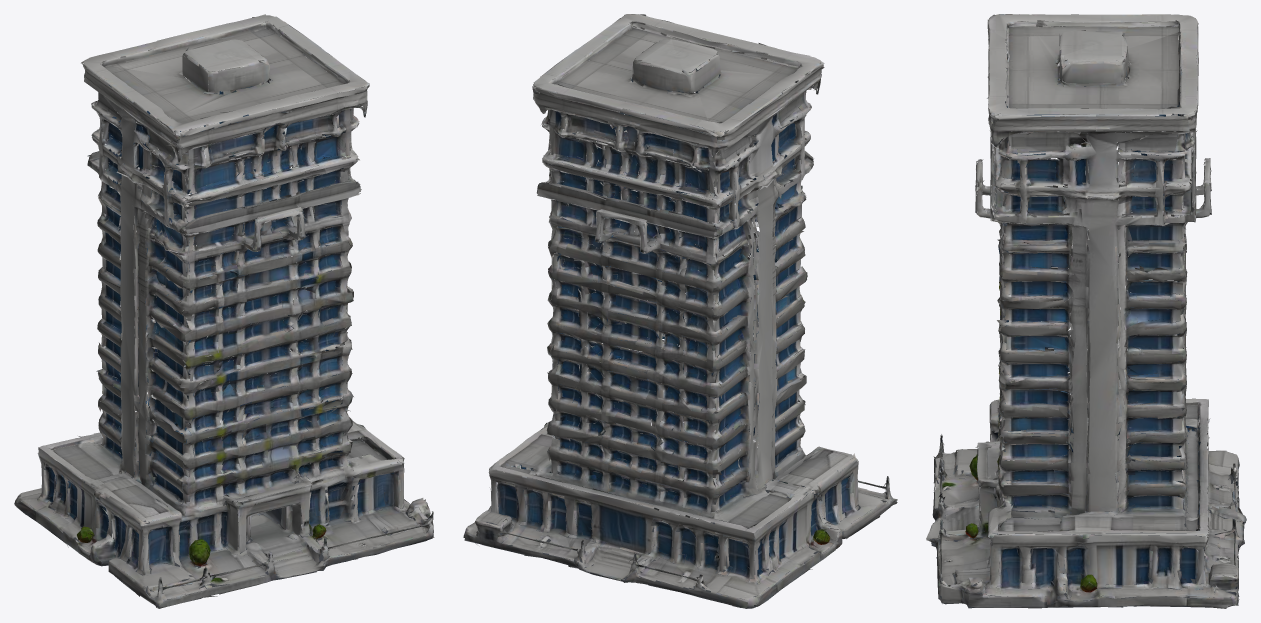
File: modern-campus-building.glb
3 renders of one model, left to right at view 1: azimuth 30°, elevation 25°; view 2: azimuth 150°, elevation 25°; view 3: azimuth 270°, elevation 25°, orthographic. The views are drawn at different scales.
Visible parts, largest first — view 1: tripo_node_be98f323-526e-42d2-95e9-05f6a22562de; view 2: tripo_node_be98f323-526e-42d2-95e9-05f6a22562de; view 3: tripo_node_be98f323-526e-42d2-95e9-05f6a22562de.
Boxes of the visible parts, x1,y1,x2,y2 form: tripo_node_be98f323-526e-42d2-95e9-05f6a22562de: (14, 14, 434, 608); tripo_node_be98f323-526e-42d2-95e9-05f6a22562de: (463, 14, 897, 608); tripo_node_be98f323-526e-42d2-95e9-05f6a22562de: (926, 14, 1246, 608).
Size of the model in its own units: 3.47 by 5.2 by 3.07.
Materials: 1 (1 with a texture image).
